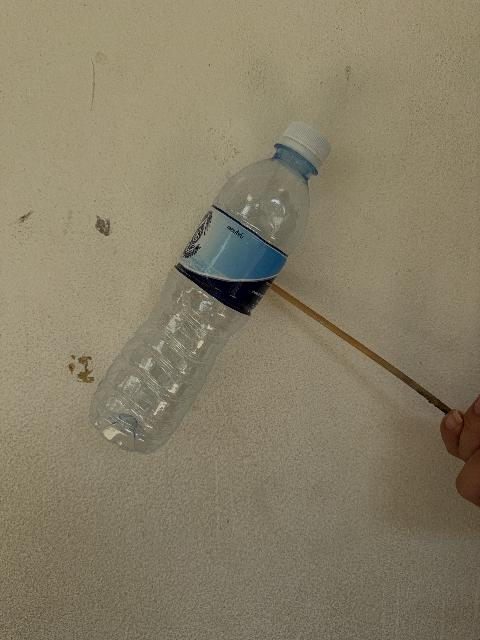bottle: (89, 123, 329, 453)
